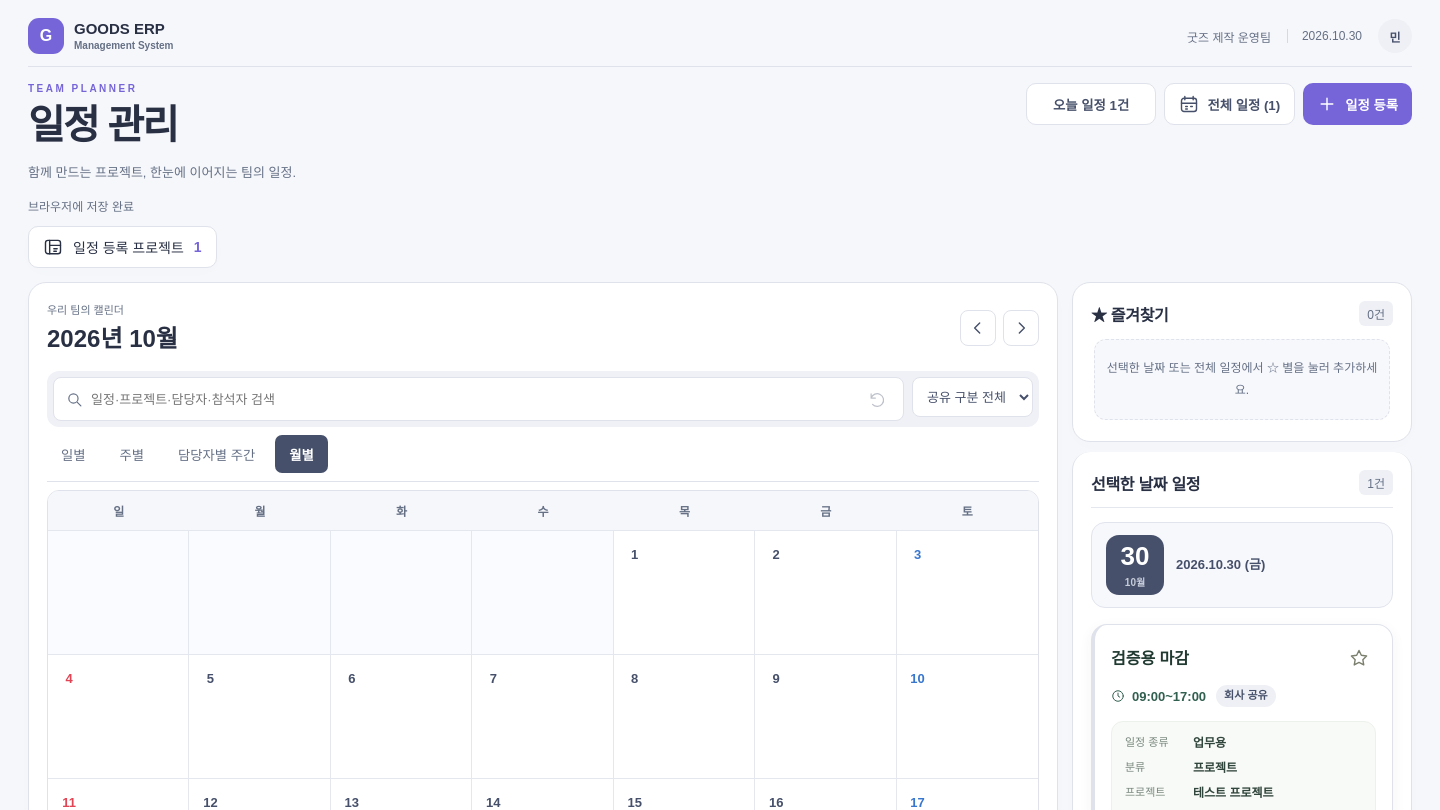
검색·필터 초기화는 조건을 지우고 선택한 보기와 저장 데이터를 유지한다
Expected: the button "검색·필터 초기화" is not shown
Step 1. Click the tab "주별" → (132, 454), box x1=106 y1=435 x2=158 y2=473
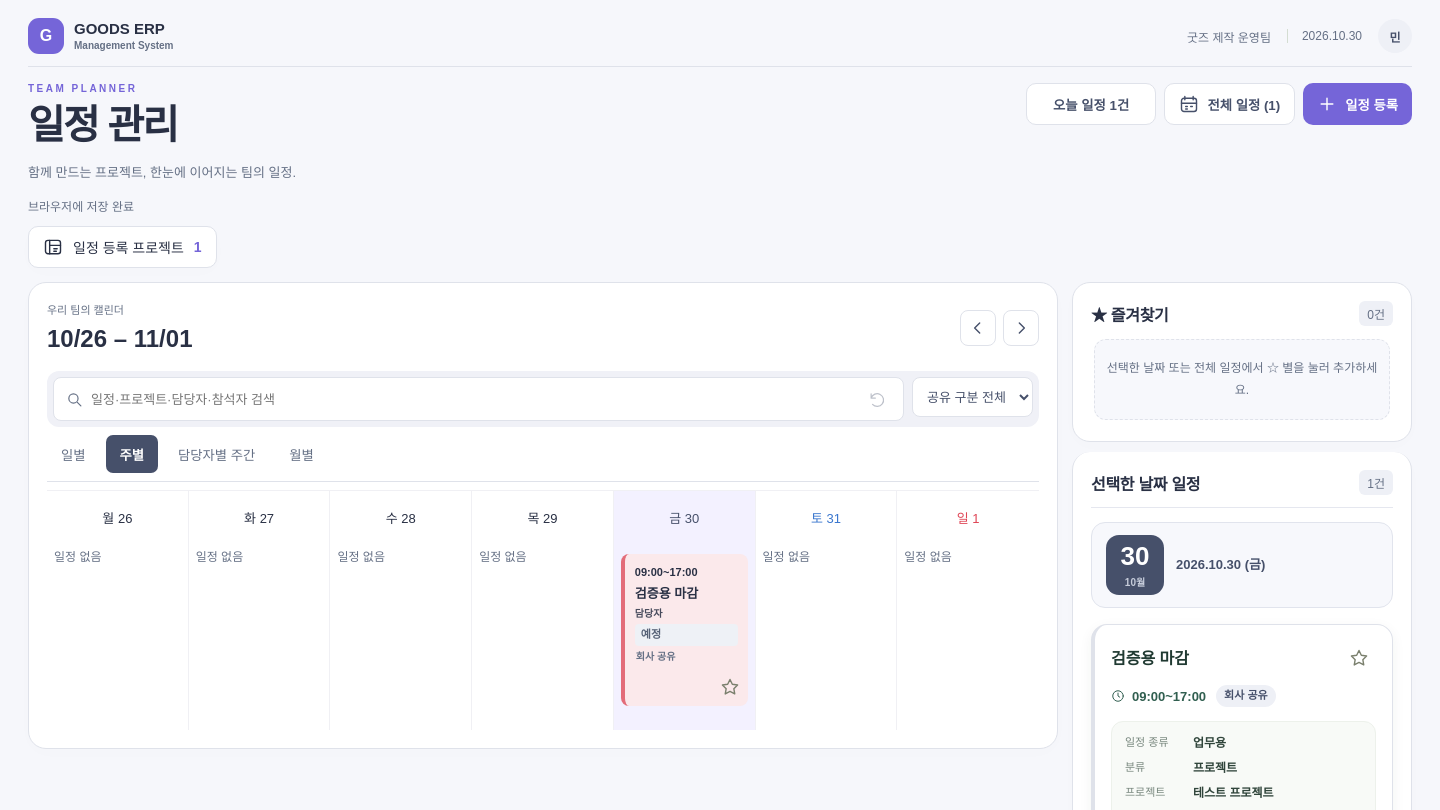
Step 2. Type "없는 검색어" into the field named "일정 검색" → (473, 399), box x1=91 y1=378 x2=855 y2=420
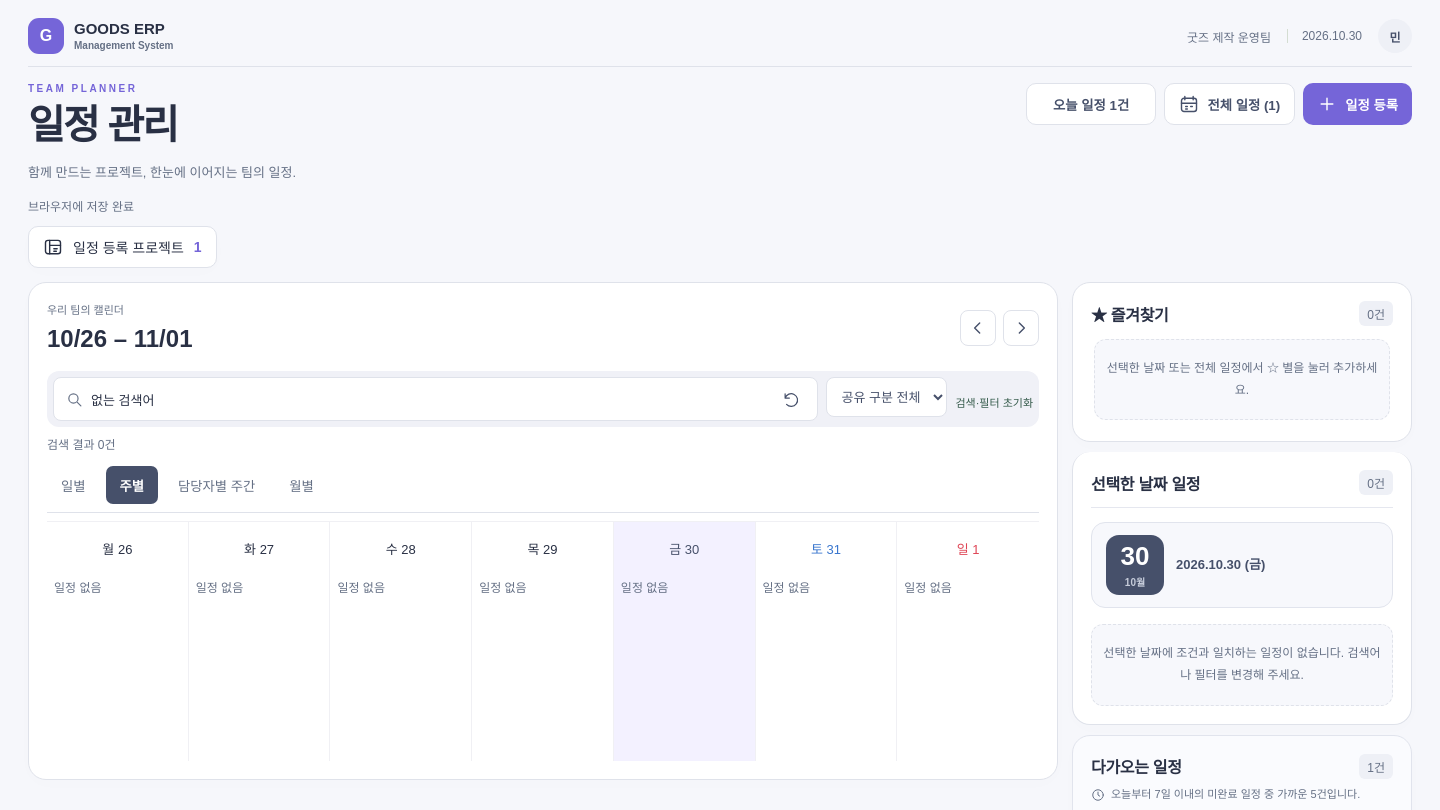
Step 3. Select "개인 표시" in the dropdown named "공유 구분 필터" → (887, 397), box x1=826 y1=377 x2=947 y2=417
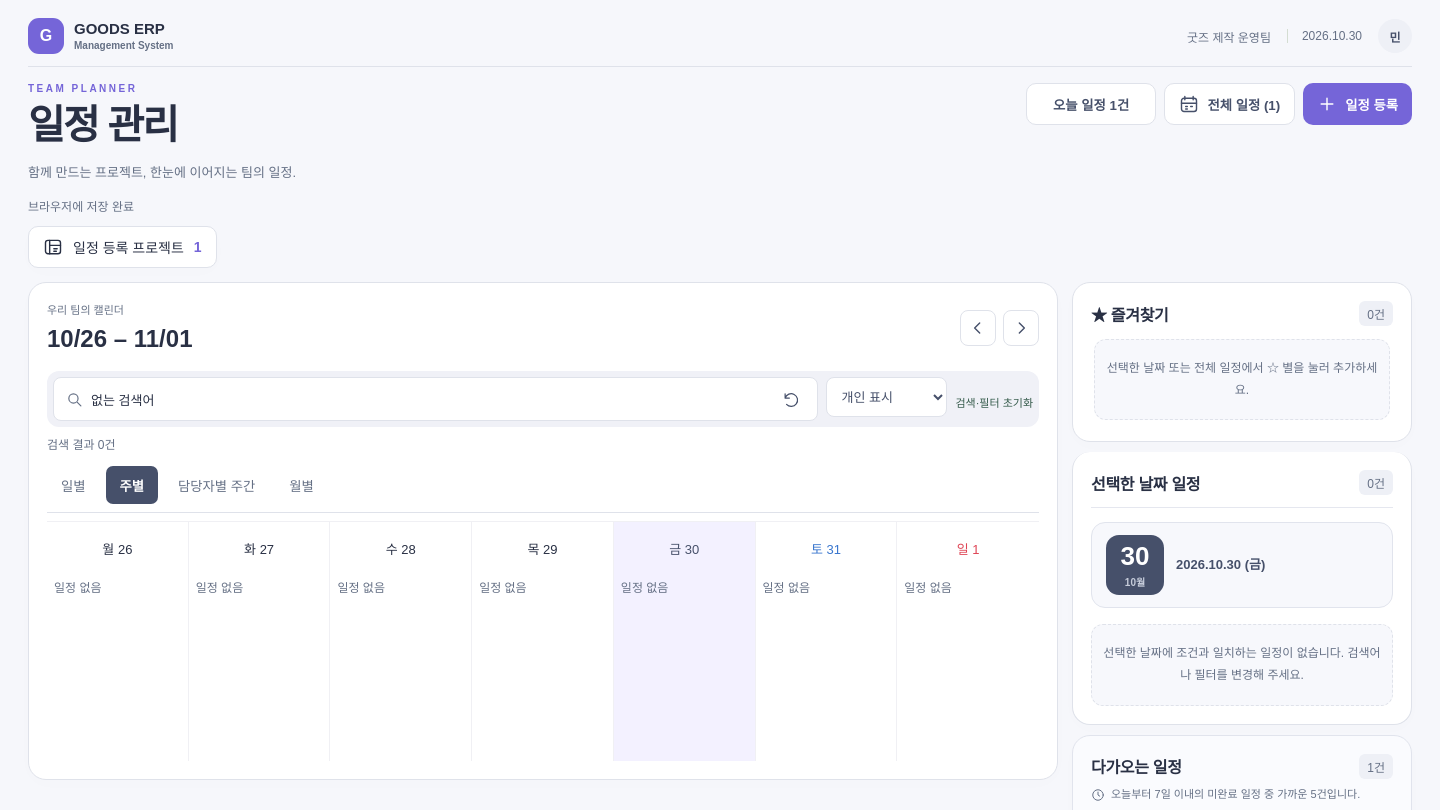
Step 4. Click the button "검색·필터 초기화" → (994, 402), box x1=955 y1=383 x2=1033 y2=421
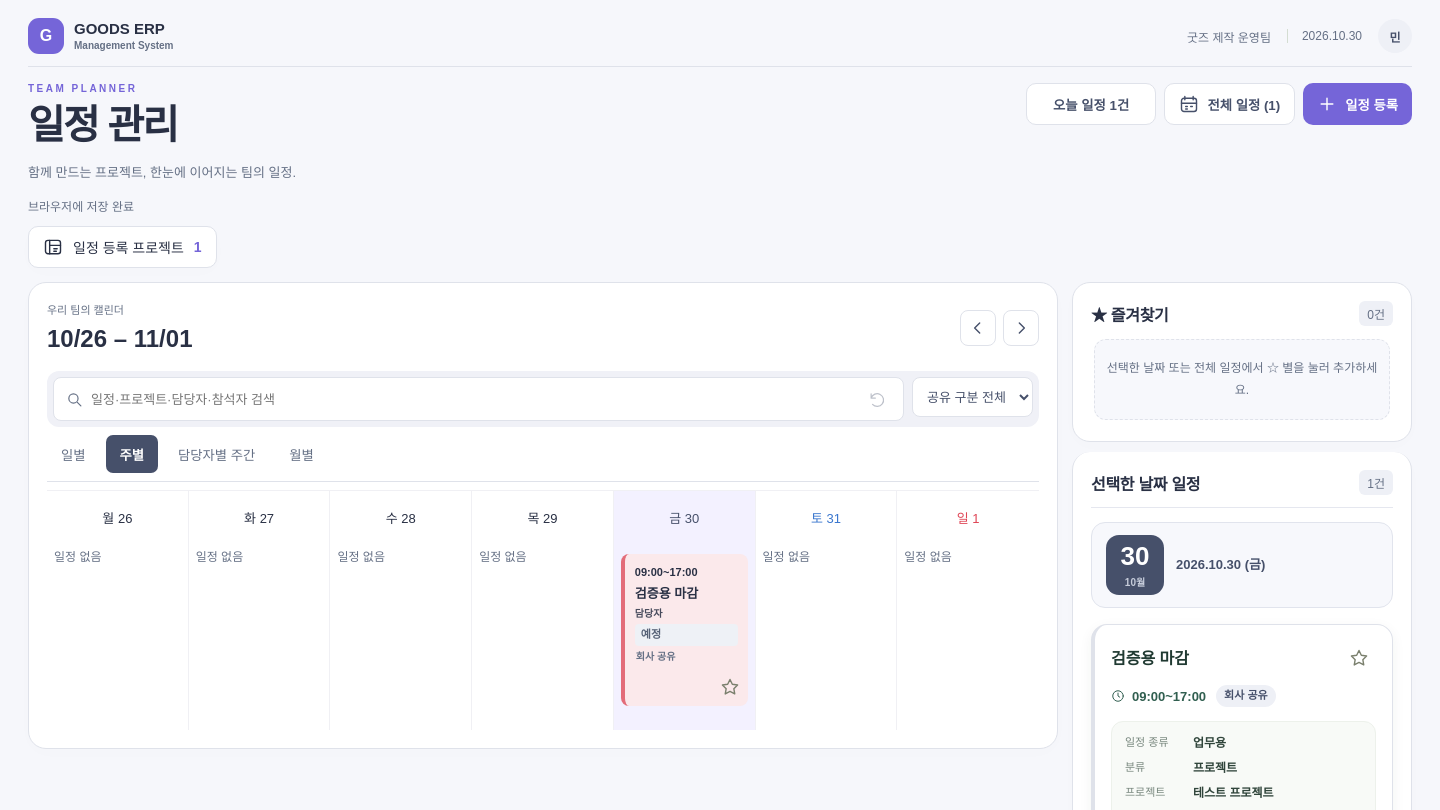
Now the field named "일정 검색" is empty, box x1=91 y1=378 x2=855 y2=420
Now the button "검색·필터 초기화" is gone
